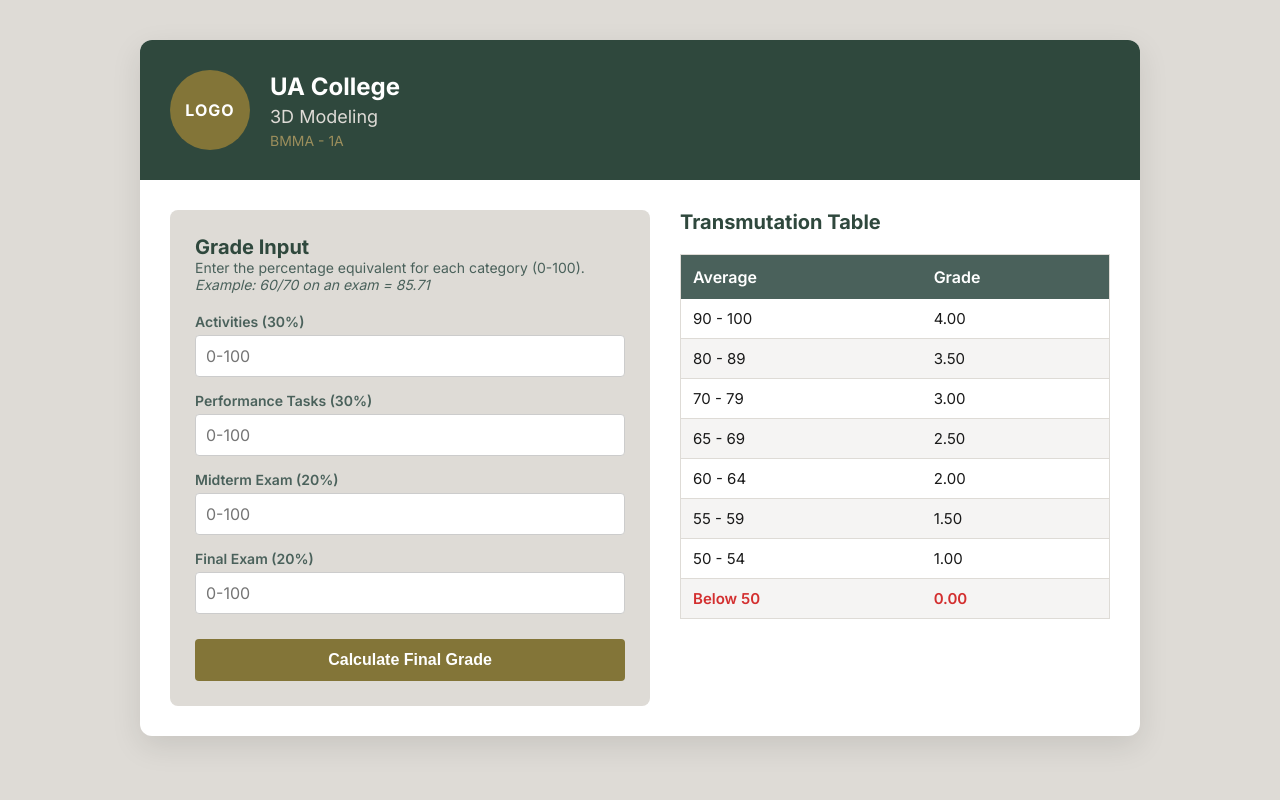
Test case: Gradebook App Component › shows error for invalid input above 100
Type "150" into the number field named "activities" at (410, 356), box [195,335,625,377]
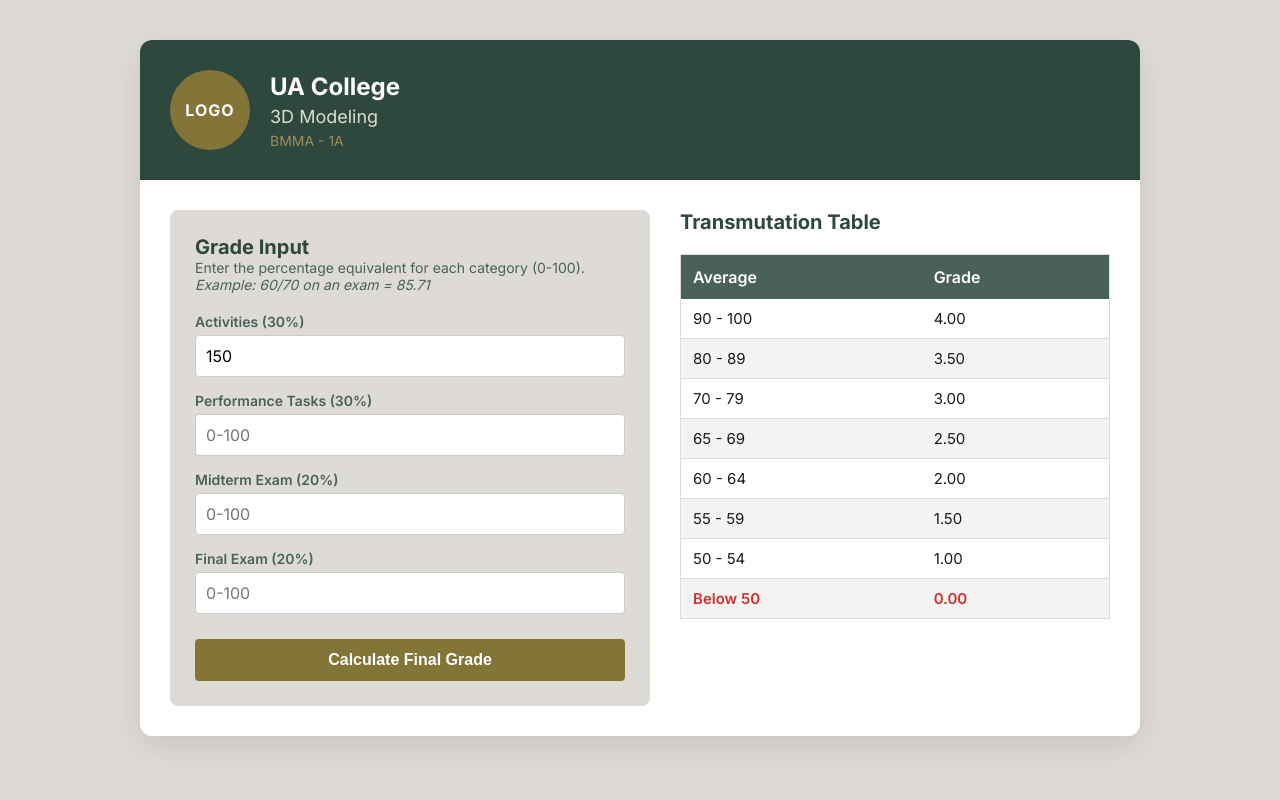
Click the button "Calculate Final Grade" at (410, 660), box [195,639,625,681]
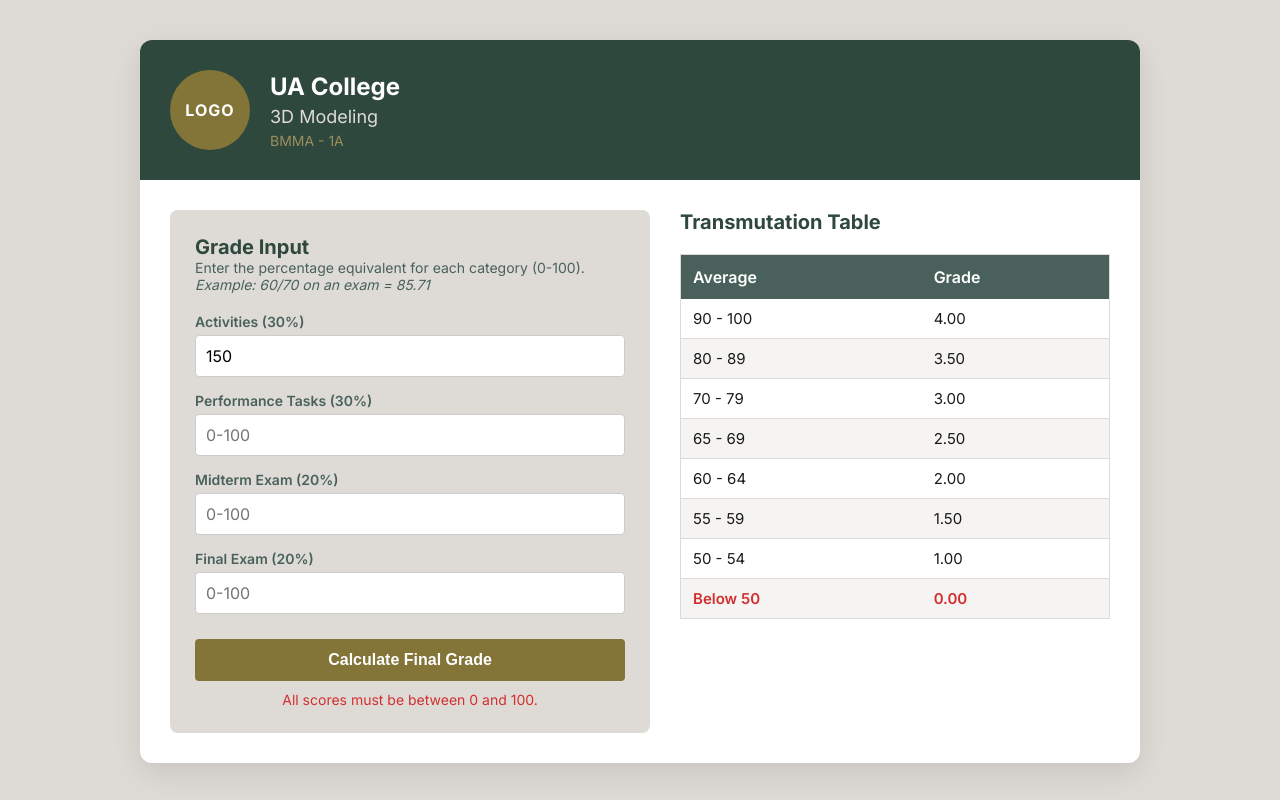
Check: the text "All scores must be between 0 and 100." is shown, box [282,691,538,708]
